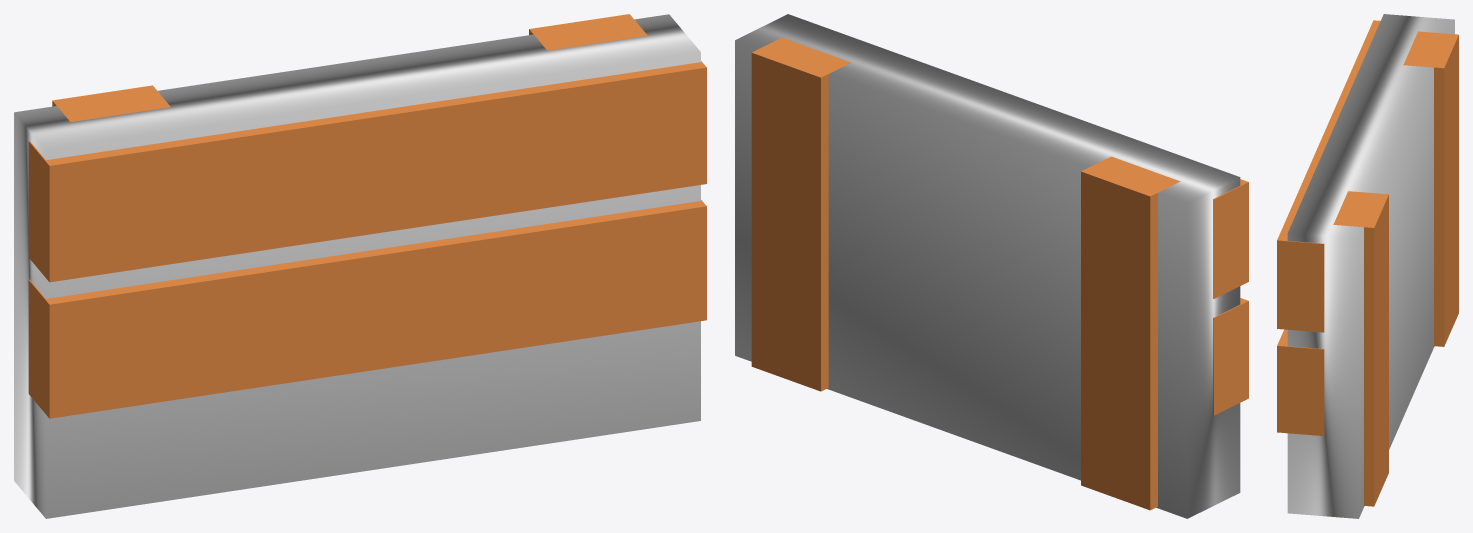
File: motri-fence.glb
3 renders of one model, left to right at view 1: azimuth 30°, elevation 25°; view 2: azimuth 150°, elevation 25°; view 3: azimuth 270°, elevation 25°, orthographic. The views are drawn at different scales.
Parts seen in each view (by area): view 1: fencePhysicalDynamic.001, cuboid.114; view 2: cuboid.114, fencePhysicalDynamic.001; view 3: cuboid.114, fencePhysicalDynamic.001.
Part boxes in pixels (box(x1,y1,x2,y2)): fencePhysicalDynamic.001: box(28, 14, 706, 418); cuboid.114: box(14, 14, 700, 518); cuboid.114: box(735, 14, 1240, 518); fencePhysicalDynamic.001: box(751, 37, 1248, 510); cuboid.114: box(1287, 14, 1454, 518); fencePhysicalDynamic.001: box(1277, 20, 1458, 506).
Size of the model in its own units: 2.16 by 1.25 by 0.7358.
Materials: 1 (1 with a texture image).
